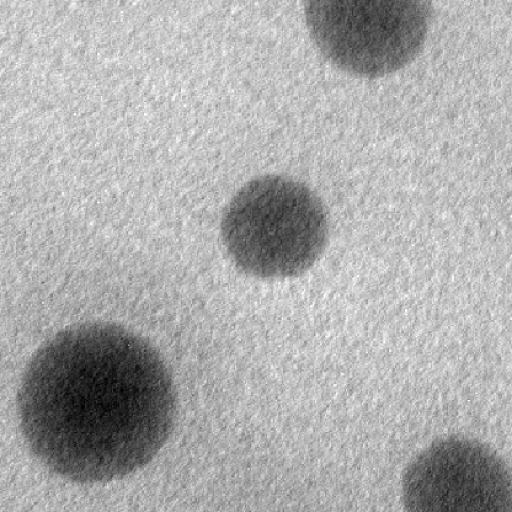Nanoparticles: (18, 320, 178, 485), (218, 174, 330, 279), (303, 0, 435, 78), (402, 433, 512, 512)
